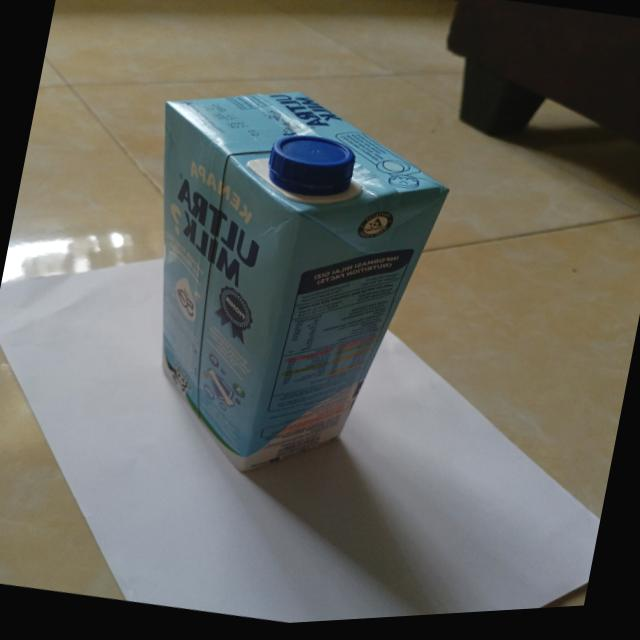indomie-mie-kocok-bandung: (92, 60, 466, 515)
